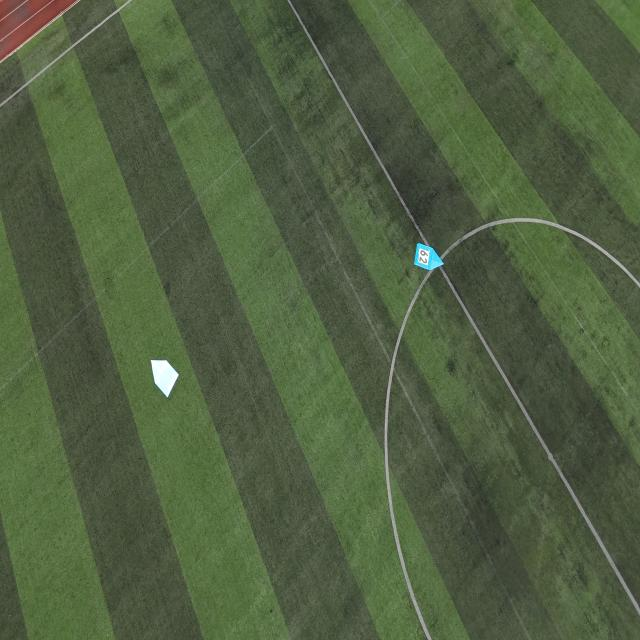board: (151, 359, 179, 398), (414, 243, 445, 271)
